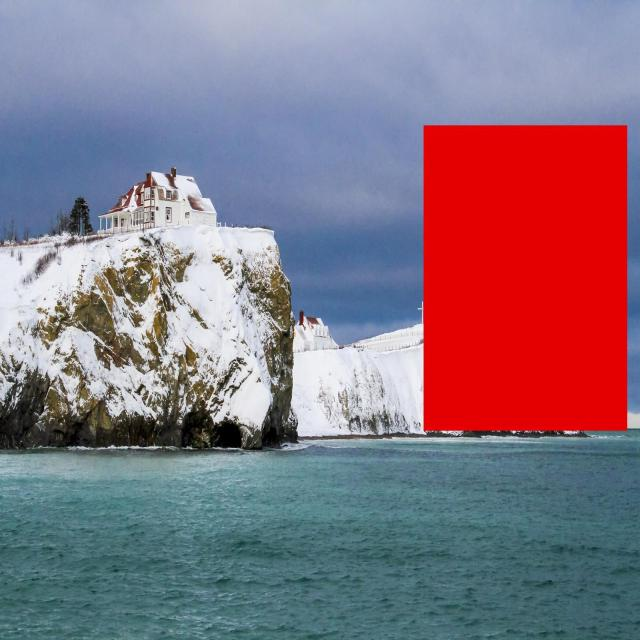RedSquare: (417, 115, 636, 448)
